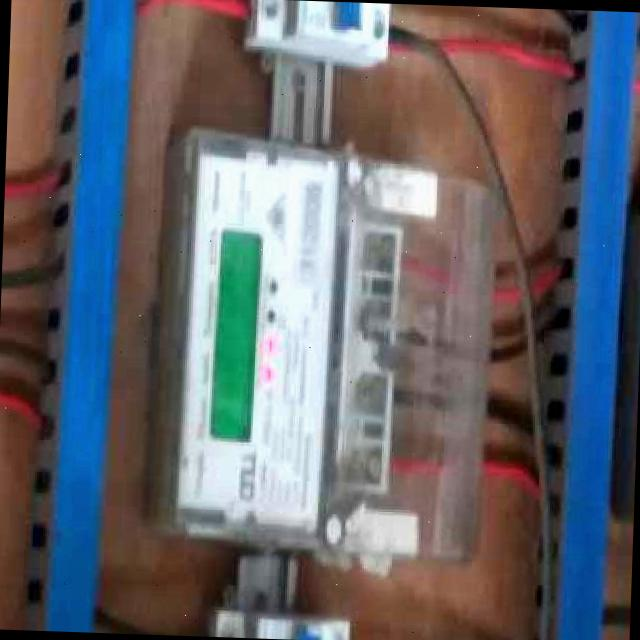LCD: (200, 210, 270, 448)
